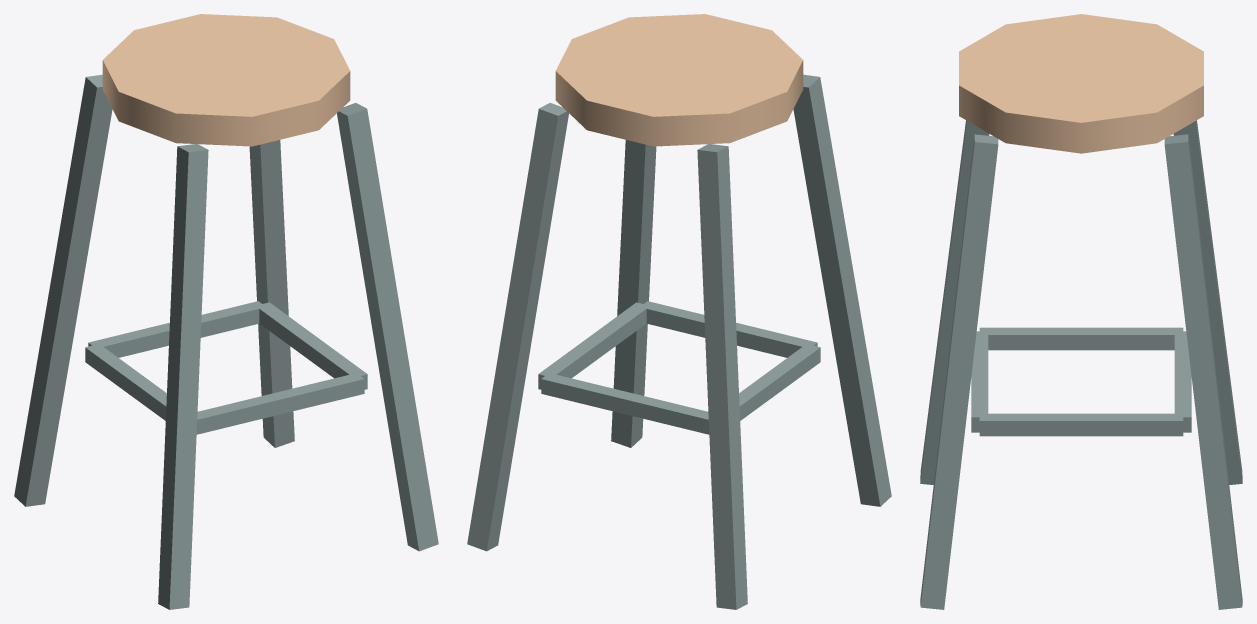
The model's file is stoolIndustrial.glb.
The picture shows the model from 3 angles, left to right: view 1: azimuth 30°, elevation 25°; view 2: azimuth 150°, elevation 25°; view 3: azimuth 270°, elevation 25°; orthographic projection. The views are drawn at different scales.
Parts seen in each view (by area): view 1: stoolIndustrial; view 2: stoolIndustrial; view 3: stoolIndustrial.
Part boxes in pixels (left/top/right/bottom): stoolIndustrial: left=14, top=14, right=438, bottom=609; stoolIndustrial: left=467, top=14, right=891, bottom=609; stoolIndustrial: left=920, top=14, right=1242, bottom=609.
Size of the model in its own units: 0.2374 by 0.3869 by 0.2376.
